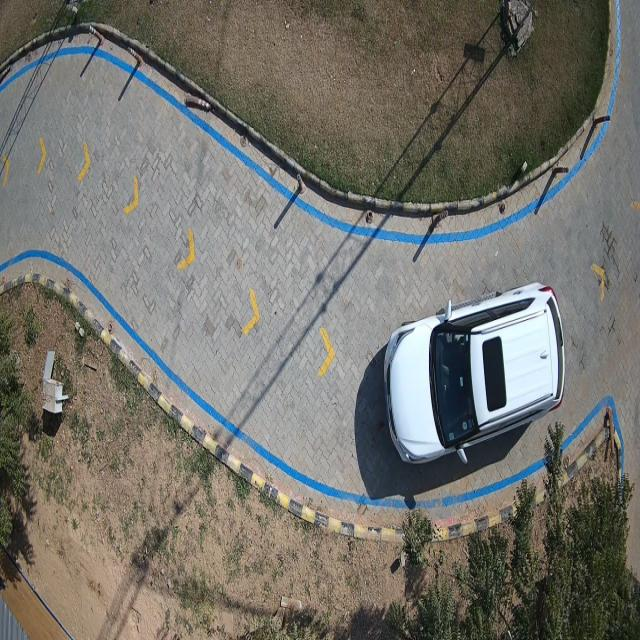car: (385, 282, 565, 461)
